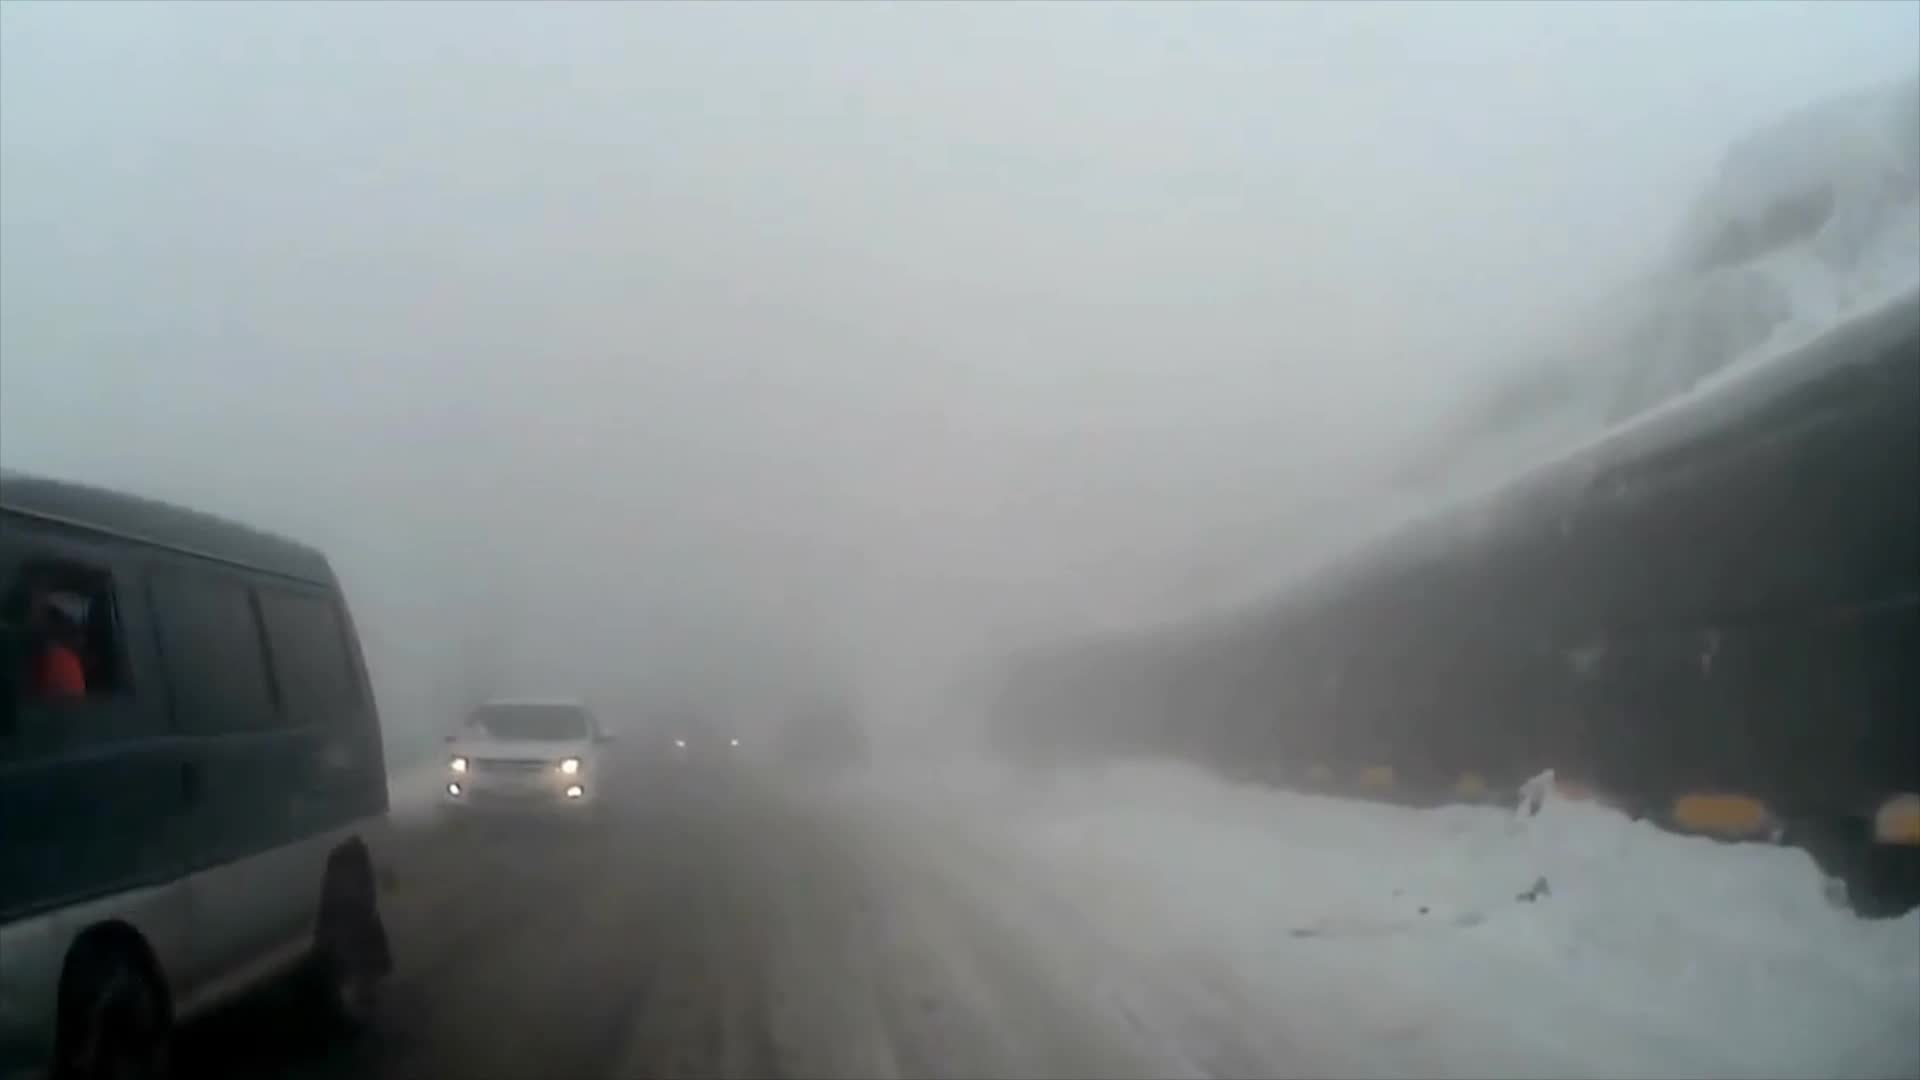vehicle: (0, 473, 404, 1080), (436, 696, 618, 837)
